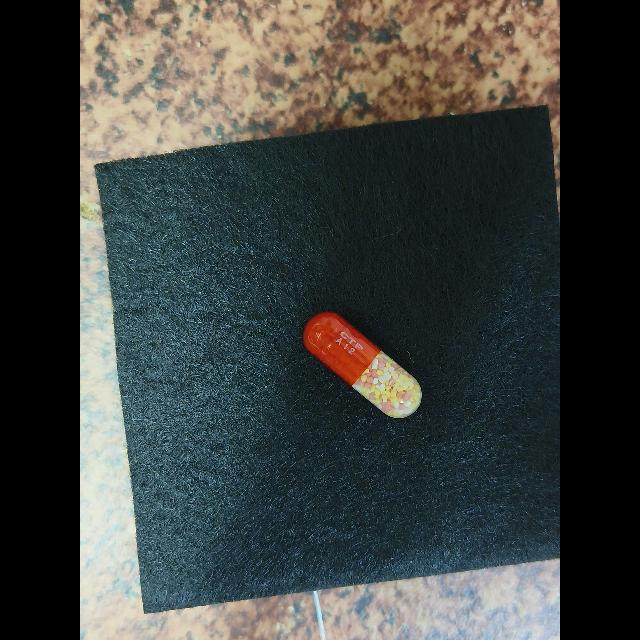Intact Capsule: (303, 312, 422, 418)
